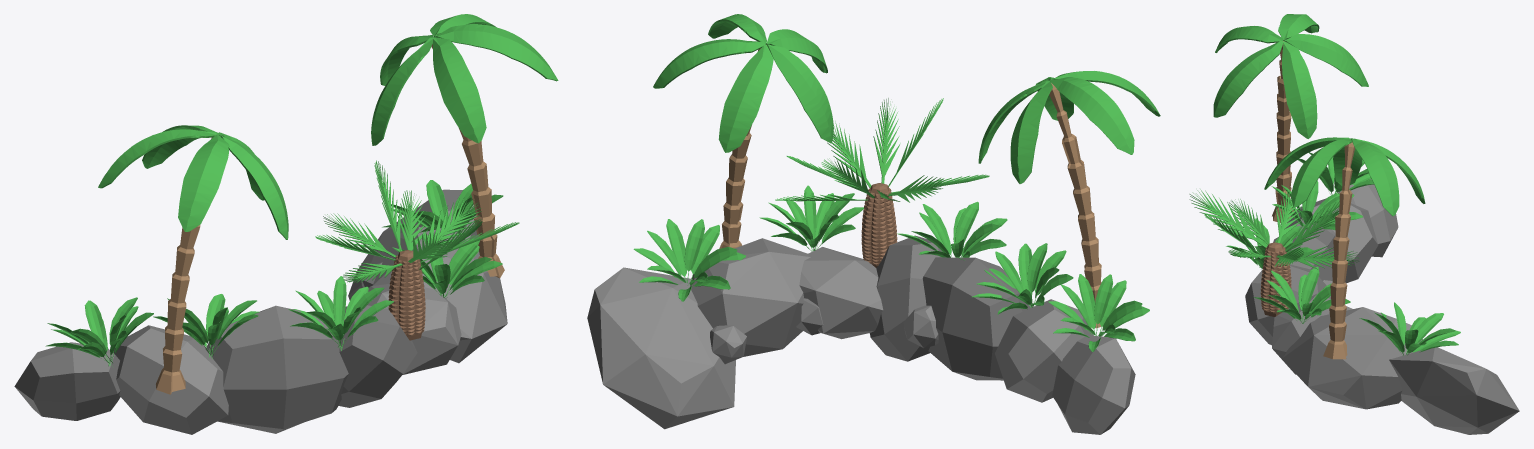
The model's file is oasTest.fbx.
The picture shows the model from 3 angles, left to right: view 1: azimuth 30°, elevation 25°; view 2: azimuth 150°, elevation 25°; view 3: azimuth 270°, elevation 25°; orthographic projection. The views are drawn at different scales.
Visible parts, largest first — view 1: Sphere, Palm_1, Palm, Cylinder, Sphere_1, Sphere_9, Sphere_2, Sphere_4, Cloner_1_4, Sphere_3, Cloner_1_2, Cube_1_0 (+3 smaller); view 2: Sphere_5, Palm_1, Palm, Sphere_4, Sphere, Cylinder, Sphere_9, Sphere_1, Sphere_3, Sphere_2, Cloner_1, Cloner_1_2 (+6 smaller); view 3: Palm, Palm_1, Sphere_4, Sphere_5, Cylinder, Cloner_1, Cube_1_0, Sphere_1, Sphere_9, Sphere_2, Sphere_3, Cloner_1_3 (+3 smaller).
Part boxes in pixels (x1=…): Sphere: x1=205, y1=305, x2=348, y2=433; Palm_1: x1=371, y1=14, x2=558, y2=277; Palm: x1=98, y1=125, x2=288, y2=394; Cylinder: x1=315, y1=160, x2=519, y2=340; Sphere_1: x1=113, y1=325, x2=228, y2=434; Sphere_9: x1=14, y1=342, x2=120, y2=420; Sphere_2: x1=338, y1=305, x2=417, y2=407; Sphere_4: x1=372, y1=227, x2=507, y2=363; Cloner_1_4: x1=288, y1=276, x2=393, y2=350; Sphere_3: x1=367, y1=283, x2=461, y2=374; Cloner_1_2: x1=45, y1=297, x2=153, y2=366; Cube_1_0: x1=392, y1=232, x2=502, y2=298; Sphere_5: x1=587, y1=267, x2=735, y2=429; Palm_1: x1=653, y1=14, x2=833, y2=248; Palm: x1=978, y1=71, x2=1160, y2=328; Sphere_4: x1=690, y1=238, x2=810, y2=356; Sphere: x1=922, y1=257, x2=1032, y2=380; Cylinder: x1=775, y1=98, x2=989, y2=267; Sphere_9: x1=1052, y1=335, x2=1135, y2=434; Sphere_1: x1=995, y1=299, x2=1093, y2=402; Sphere_3: x1=799, y1=247, x2=883, y2=339; Sphere_2: x1=869, y1=235, x2=942, y2=361; Cloner_1: x1=633, y1=219, x2=745, y2=301; Cloner_1_2: x1=1048, y1=274, x2=1149, y2=351; Palm: x1=1213, y1=14, x2=1368, y2=222; Palm_1: x1=1264, y1=137, x2=1425, y2=359; Sphere_4: x1=1282, y1=307, x2=1422, y2=409; Sphere_5: x1=1389, y1=347, x2=1519, y2=434; Cylinder: x1=1189, y1=189, x2=1359, y2=316; Cloner_1: x1=1359, y1=302, x2=1460, y2=355; Cube_1_0: x1=1253, y1=266, x2=1350, y2=323; Sphere_1: x1=1285, y1=198, x2=1378, y2=283; Sphere_9: x1=1338, y1=179, x2=1398, y2=257; Sphere_2: x1=1245, y1=266, x2=1330, y2=345; Sphere_3: x1=1272, y1=293, x2=1352, y2=374; Cloner_1_3: x1=1271, y1=180, x2=1362, y2=229.
Size of what is drawn, in the model's own units: 1221 by 817 by 837.
